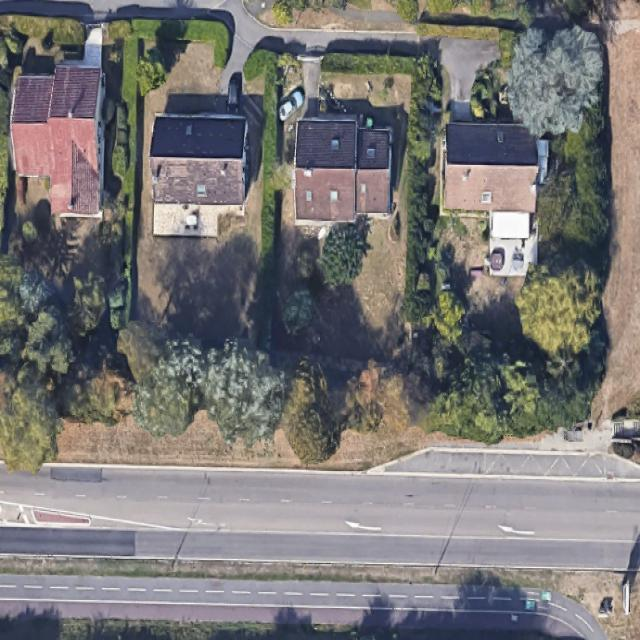maison: (10, 65, 101, 216), (294, 116, 391, 224), (149, 116, 248, 205), (442, 122, 540, 211)
